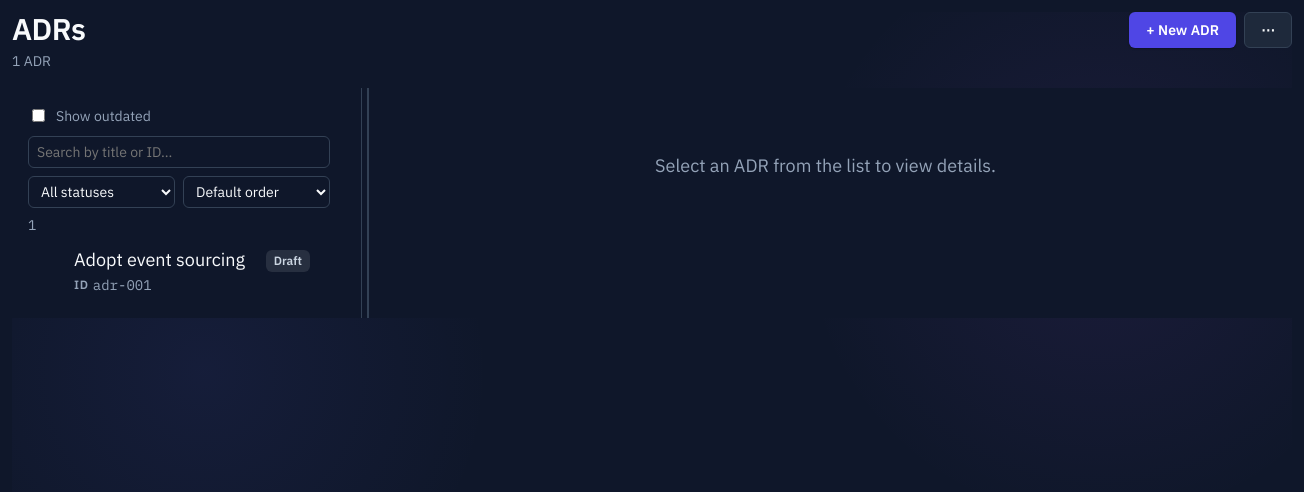
Test: AdrEditors — include_deleted reveals outdated ADRs (D6) › reveals and badges the outdated ADR only after the toggle is on
Step 1. Click the checkbox with test id "adr-list-include-deleted" → coordinates (38, 116), box [32,109,45,122]
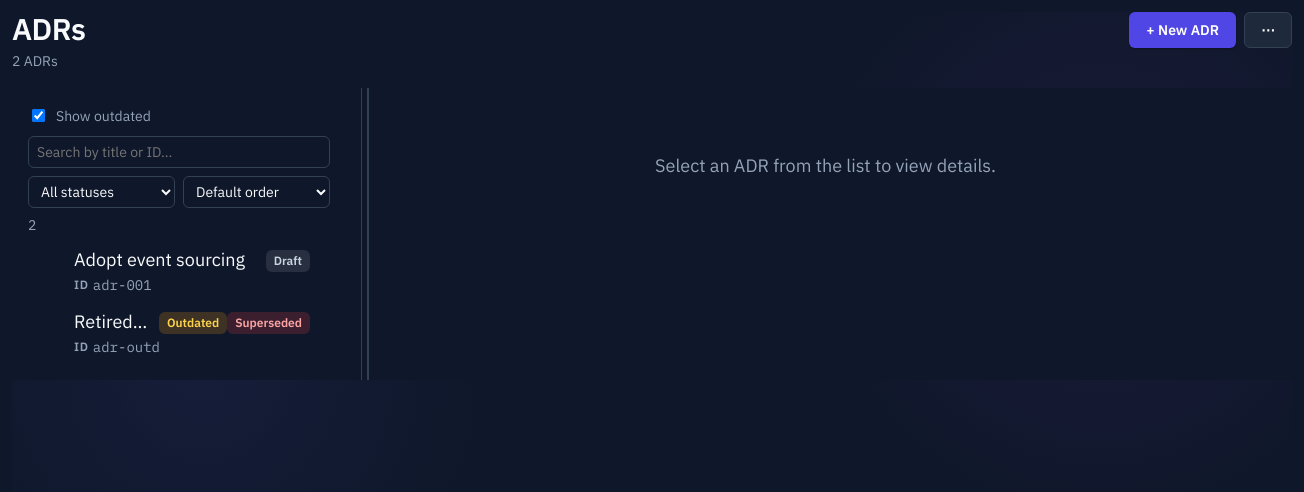
Expected: the element with test id "adr-row-adr-outdated-1" is shown, [59,304,322,364]
Expected: the text "Outdated" is shown, [159,312,227,334]
